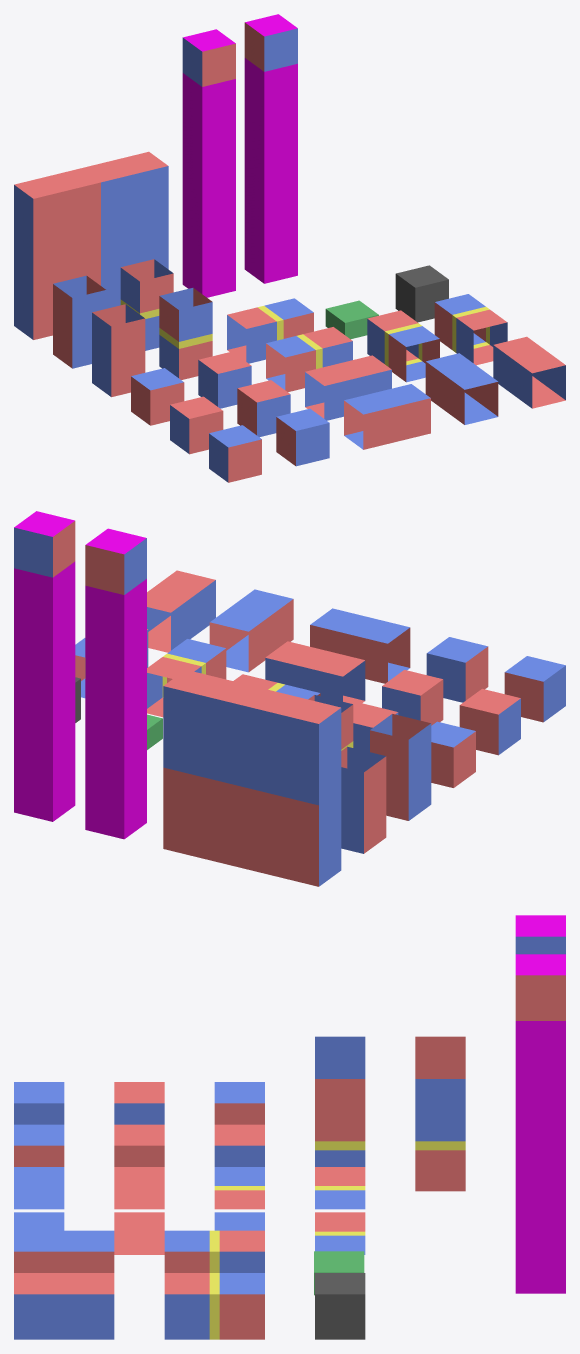
The model's file is template.dae.
3 renders of one model, top to bottom at view 1: azimuth 30°, elevation 25°; view 2: azimuth 150°, elevation 25°; view 3: azimuth 270°, elevation 25°, orthographic. The views are drawn at different scales.
Visible parts, largest first — view 1: cultivation (×8), patch_rotation (×2), xoz (×4), zox (×4), oxz (×2), zxo (×2), zxoh (×4), xzo (×2), ozx (×2), oxzh (×4), ozxh (×4), zxz (×2) (+10 smaller); view 2: cultivation (×8), patch_rotation (×2), xoz (×4), zxo (×3), oxz (×3), xzo (×3), ozx (×3), zox (×3), zxz (×2), zxx (×2), xzz (×2), xzx (×2) (+4 smaller); view 3: cultivation (×5), zoxh (×5), zox (×2), xzoh (×3), xoz (×2), ozx (×2), zxoh (×3), xozh (×4), ozxh (×4), port, oxz (×2), oxzh (×3) (+9 smaller).
Part boxes in pixels (bbox=[...]): cultivation (×8): bbox=[182, 14, 297, 297]; patch_rotation (×2): bbox=[14, 151, 168, 339]; xoz (×4): bbox=[425, 353, 498, 424]; zox (×4): bbox=[493, 336, 565, 408]; oxz (×2): bbox=[344, 384, 430, 449]; zxo (×2): bbox=[92, 312, 145, 397]; zxoh (×4): bbox=[159, 296, 212, 379]; xzo (×2): bbox=[53, 284, 106, 368]; ozx (×2): bbox=[305, 355, 391, 420]; oxzh (×4): bbox=[266, 327, 352, 391]; ozxh (×4): bbox=[227, 298, 313, 363]; zxz (×2): bbox=[209, 425, 261, 482]; cultivation (×8): bbox=[14, 511, 146, 839]; patch_rotation (×2): bbox=[163, 669, 341, 886]; xoz (×4): bbox=[209, 589, 293, 672]; zxo (×3): bbox=[370, 714, 431, 820]; oxz (×3): bbox=[310, 608, 410, 683]; xzo (×3): bbox=[341, 746, 386, 853]; ozx (×3): bbox=[265, 641, 365, 701]; zox (×3): bbox=[147, 570, 215, 652]; zxz (×2): bbox=[504, 656, 565, 722]; zxx (×2): bbox=[459, 688, 520, 755]; xzz (×2): bbox=[426, 637, 488, 702]; xzx (×2): bbox=[382, 670, 443, 725]; cultivation (×5): bbox=[515, 915, 565, 1293]; zoxh (×5): bbox=[164, 1273, 264, 1339]; zox (×2): bbox=[14, 1273, 114, 1339]; xzoh (×3): bbox=[415, 1079, 465, 1191]; xoz (×2): bbox=[14, 1230, 114, 1272]; ozx (×2): bbox=[114, 1167, 164, 1254]; zxoh (×3): bbox=[315, 1079, 365, 1166]; xozh (×4): bbox=[164, 1230, 264, 1272]; ozxh (×4): bbox=[315, 1167, 365, 1254]; port: bbox=[315, 1273, 365, 1339]; oxz (×2): bbox=[14, 1167, 64, 1230]; oxzh (×3): bbox=[214, 1167, 264, 1230].
Bounding box in the file's own units: 10 × 11 × 7.
